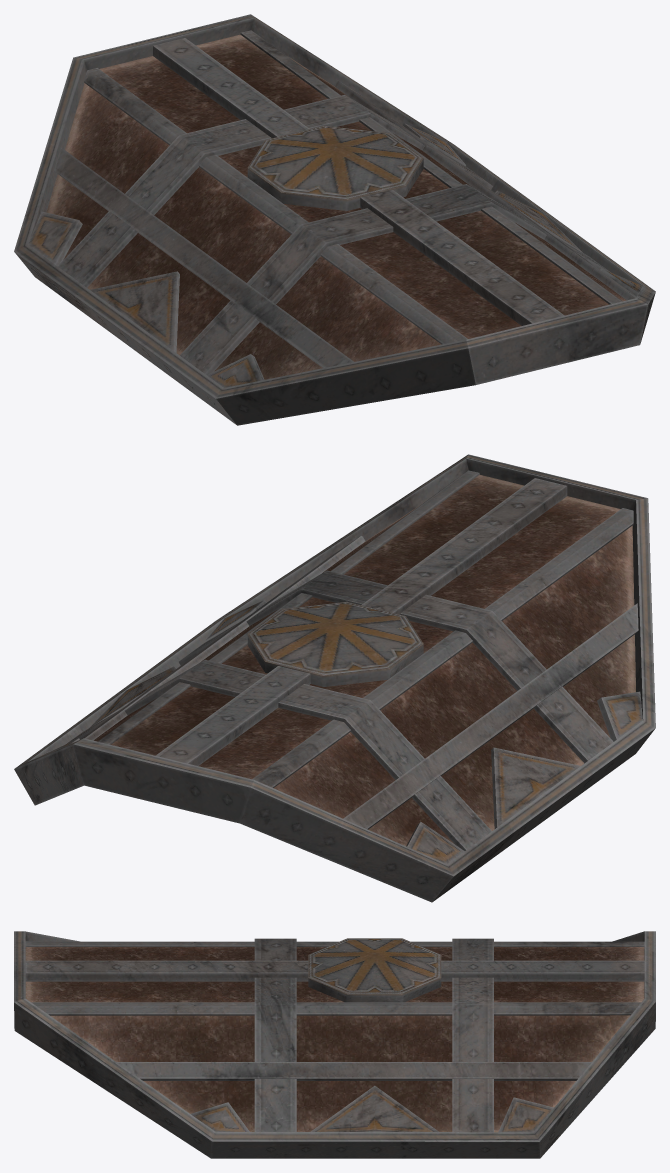
Rendered from sm_dwarf_erebor_shield_tower_a.fbx.
3 views of the same model, one above another, from view 1: azimuth 30°, elevation 25°; view 2: azimuth 150°, elevation 25°; view 3: azimuth 270°, elevation 25° (orthographic). The views are drawn at different scales.
Visible parts, largest first — view 1: sm_dwarf_erebor_shield_tower_a; view 2: sm_dwarf_erebor_shield_tower_a; view 3: sm_dwarf_erebor_shield_tower_a.
Boxes of the visible parts, <box> form: sm_dwarf_erebor_shield_tower_a: <box>14,14,655,425</box>; sm_dwarf_erebor_shield_tower_a: <box>14,454,655,902</box>; sm_dwarf_erebor_shield_tower_a: <box>14,931,655,1158</box>.
Size of the model in its own units: 0.6504 by 1.01 by 0.2209.
1 material, 1 textured.
